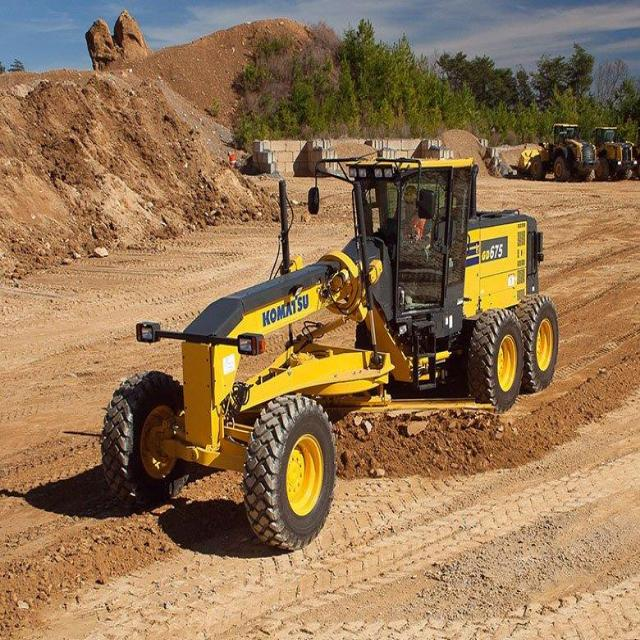Grader: (55, 149, 583, 557)
